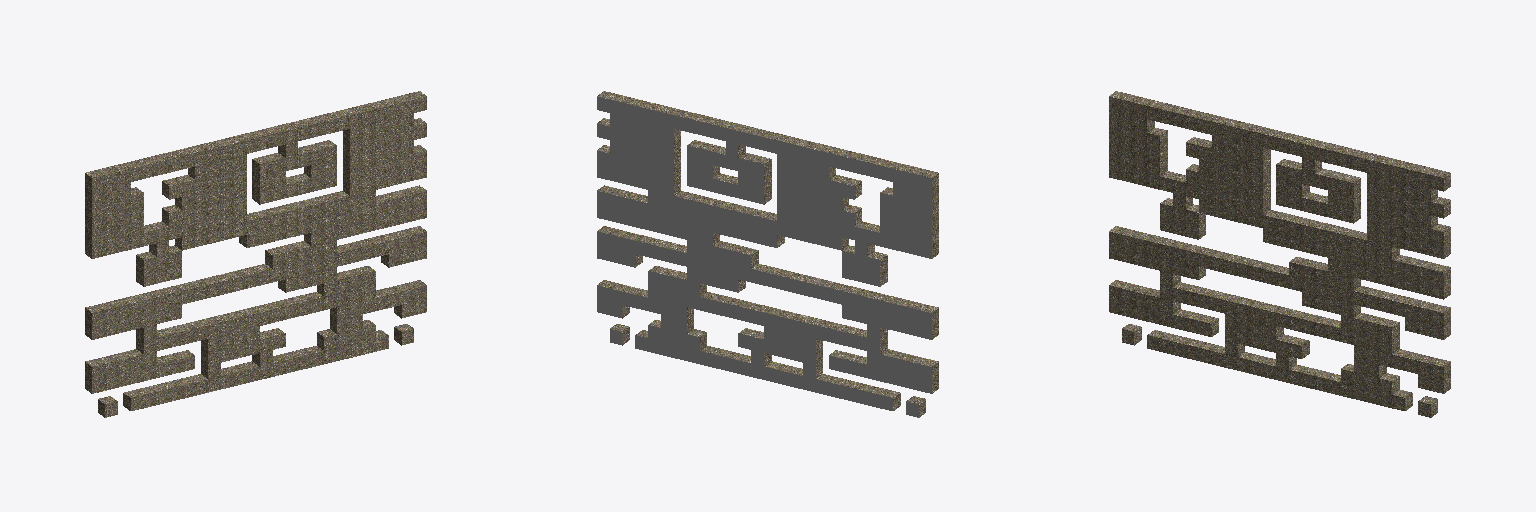
The picture shows the model from 3 angles: view 1: azimuth 30°, elevation 25°; view 2: azimuth 150°, elevation 25°; view 3: azimuth 330°, elevation 25°; orthographic projection.
Size of the model in its own units: 26 by 18 by 1.
3 materials, 1 textured.